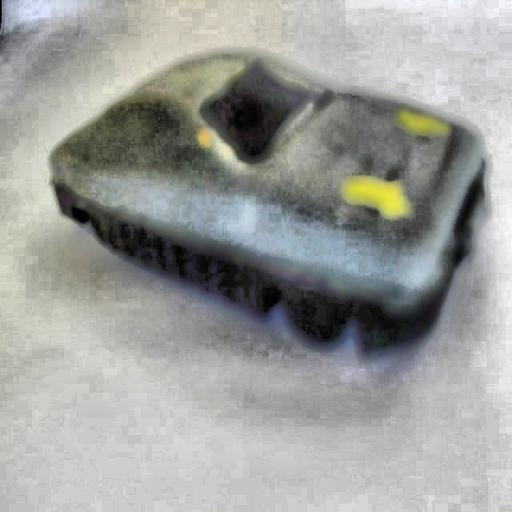normal_car: (45, 46, 493, 357)
